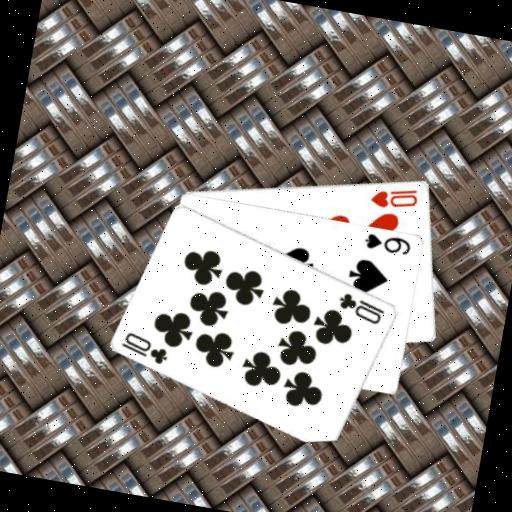10C: (116, 327, 173, 367), (332, 287, 388, 327)
10H: (366, 178, 421, 214)
6S: (360, 228, 413, 257)
